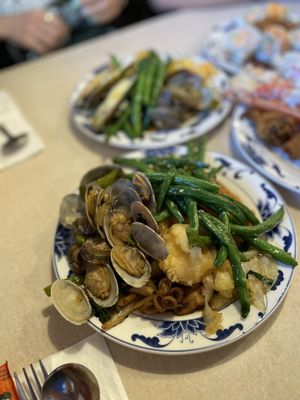salad: (41, 363, 101, 400)
sushi: (45, 147, 299, 370), (70, 51, 234, 153)
